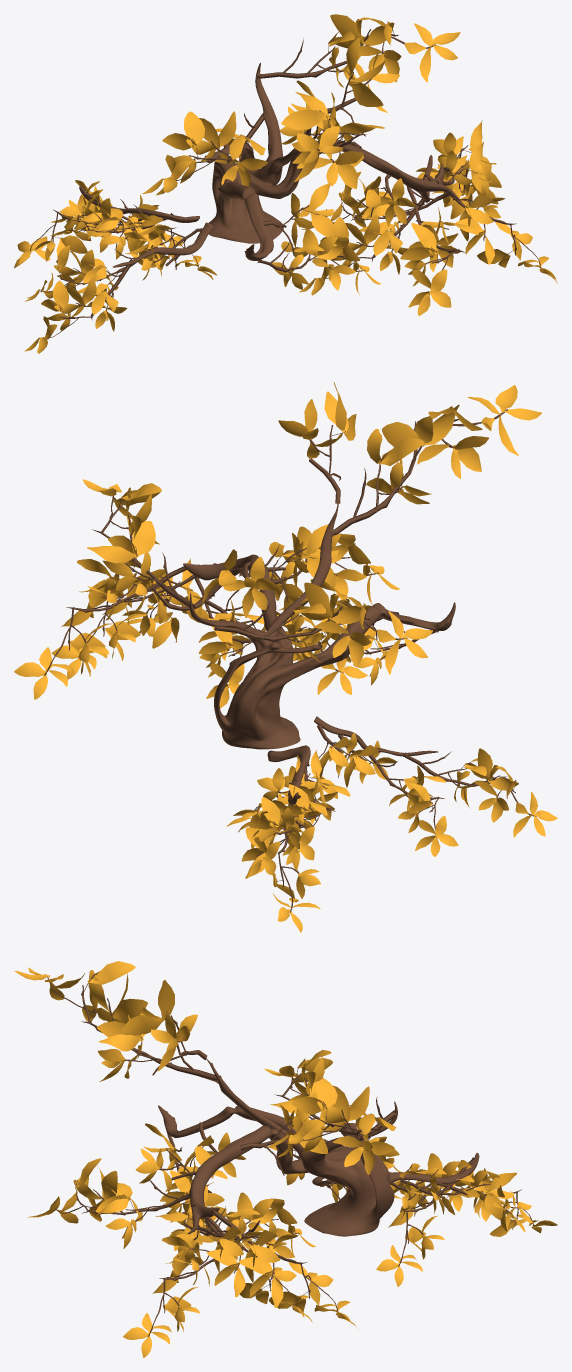
Rendered from FireTree2.fbx.
3 renders of one model, top to bottom at view 1: azimuth 30°, elevation 25°; view 2: azimuth 150°, elevation 25°; view 3: azimuth 270°, elevation 25°, orthographic. The views are drawn at different scales.
Parts seen in each view (by area): view 1: Life_tree_02; view 2: Life_tree_02; view 3: Life_tree_02.
Part boxes in pixels (x1,y1,x2,y2): Life_tree_02: (14, 14, 557, 353); Life_tree_02: (14, 382, 557, 932); Life_tree_02: (14, 961, 557, 1357).
Size of the model in its own units: 631 by 427 by 638.
